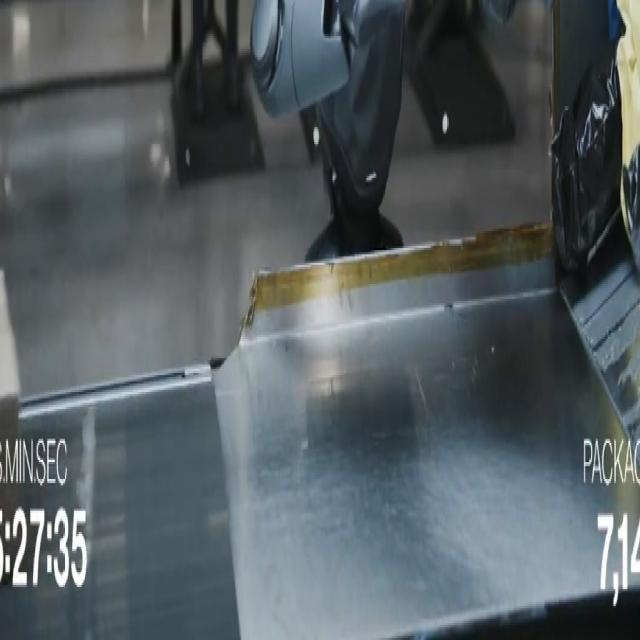package: (552, 45, 622, 271), (617, 0, 639, 267), (0, 272, 19, 523), (623, 147, 639, 269)
